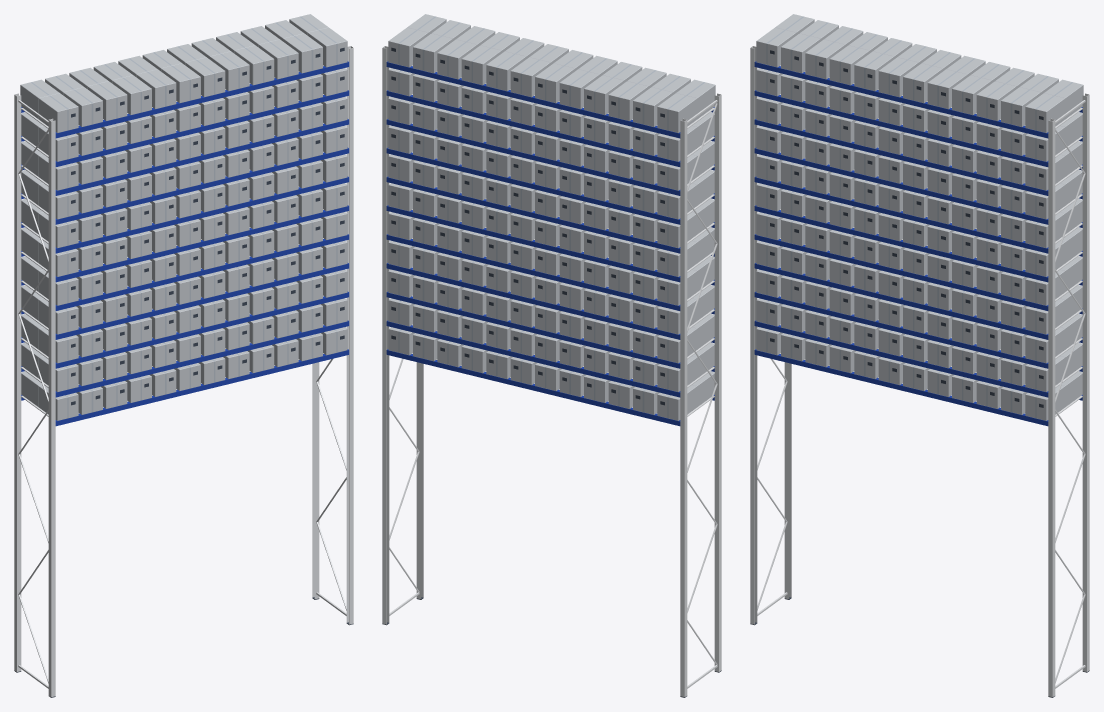
File: SM_MPR_CADRack_F17P1_W192_Passage.fbx
The picture shows the model from 3 angles, left to right: view 1: azimuth 30°, elevation 25°; view 2: azimuth 150°, elevation 25°; view 3: azimuth 330°, elevation 25°; orthographic projection.
Visible parts, largest first — view 1: SM_MPR_CADRack_F17P1_W192_Passage; view 2: SM_MPR_CADRack_F17P1_W192_Passage; view 3: SM_MPR_CADRack_F17P1_W192_Passage.
Part boxes in pixels (<box>): SM_MPR_CADRack_F17P1_W192_Passage: <box>14,14,353,697</box>; SM_MPR_CADRack_F17P1_W192_Passage: <box>382,14,721,697</box>; SM_MPR_CADRack_F17P1_W192_Passage: <box>750,14,1089,697</box>.
Size of the model in its own units: 503 by 107 by 929.
